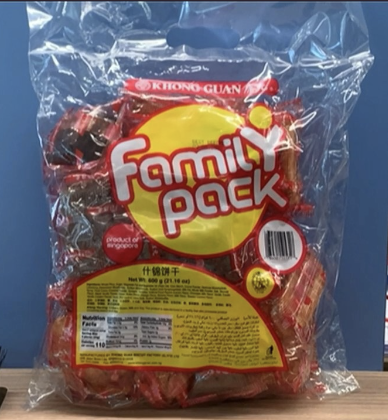cookies_450g: (58, 81, 315, 367)
